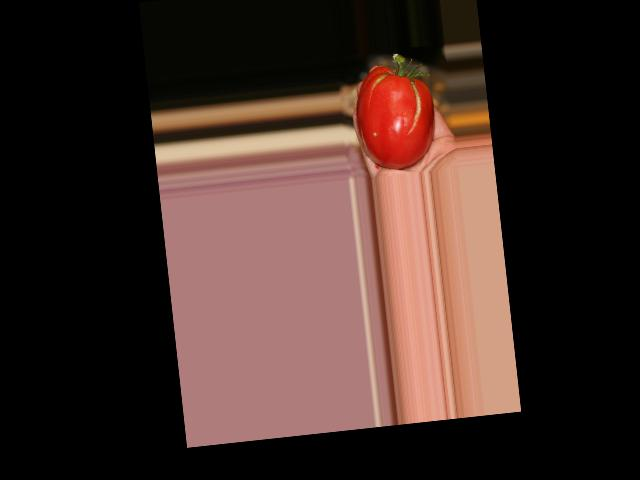tomato: (350, 61, 438, 173)
